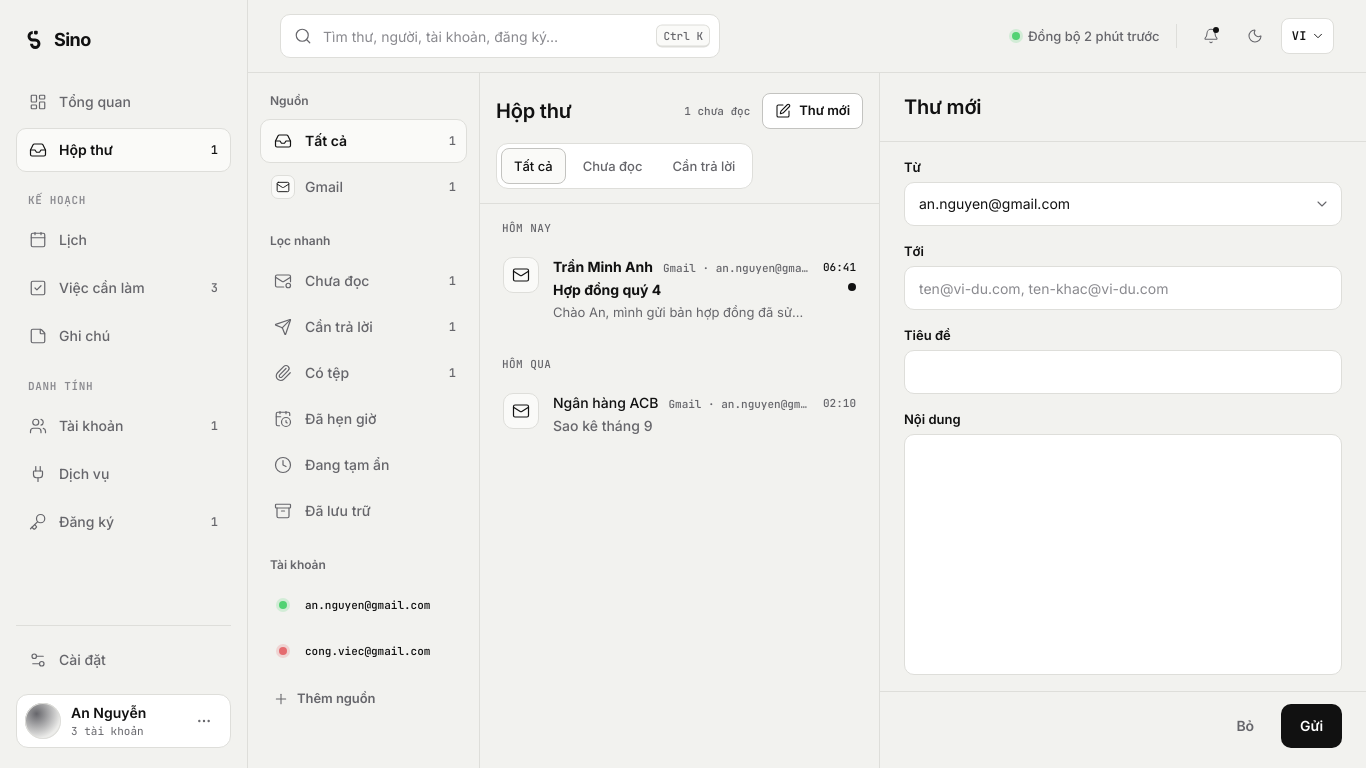
Test: sending a new mail on the API (FE-84, f10-new-mail) › shows the field errors of the server under their fields, and the mail stays editable
The width and height of the screenshot is (1366, 768).
Type "minhanh@acme.vn" into the field labelled "Tới".
click(1123, 288); type("minhanh@acme.vn")  # box [904,266,1342,310]
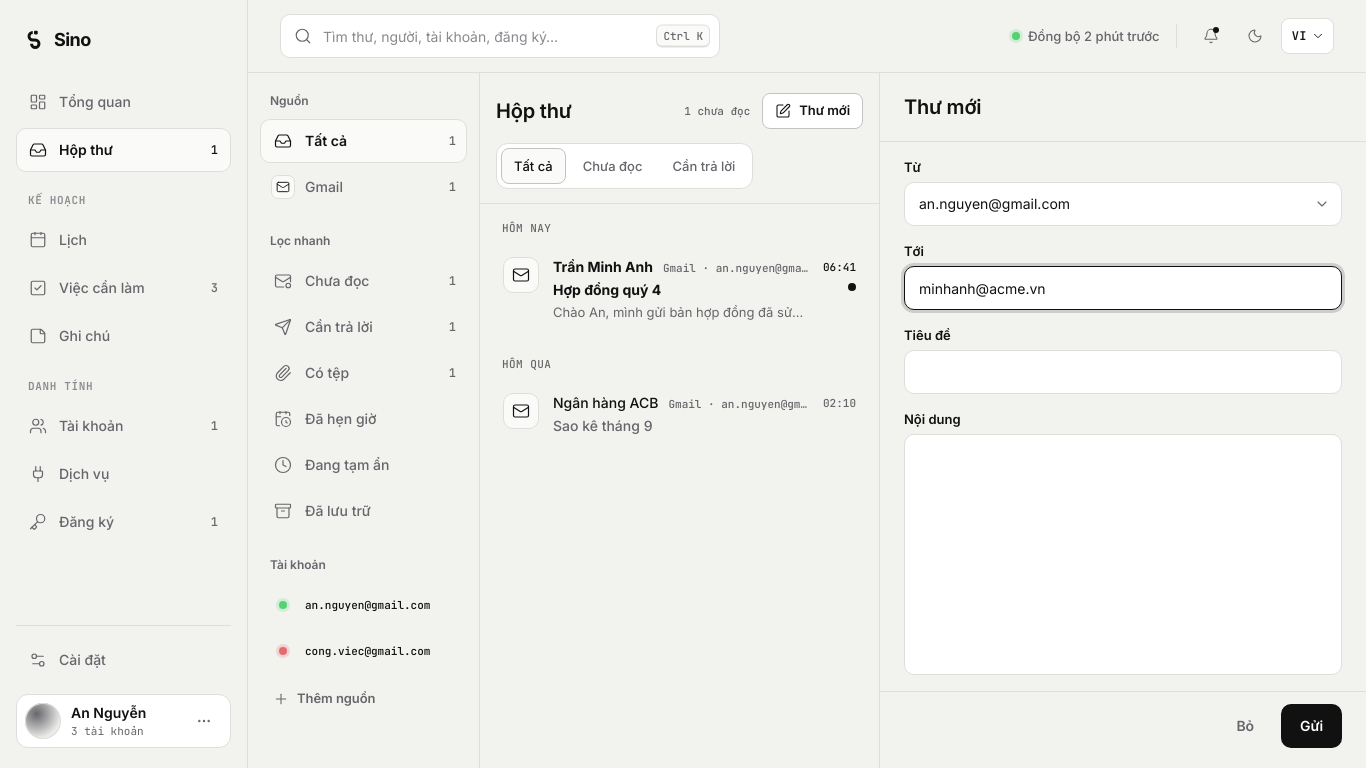
Type "Báo giá" into the field labelled "Tiêu đề".
click(1123, 372); type("Báo giá")  # box [904,350,1342,394]
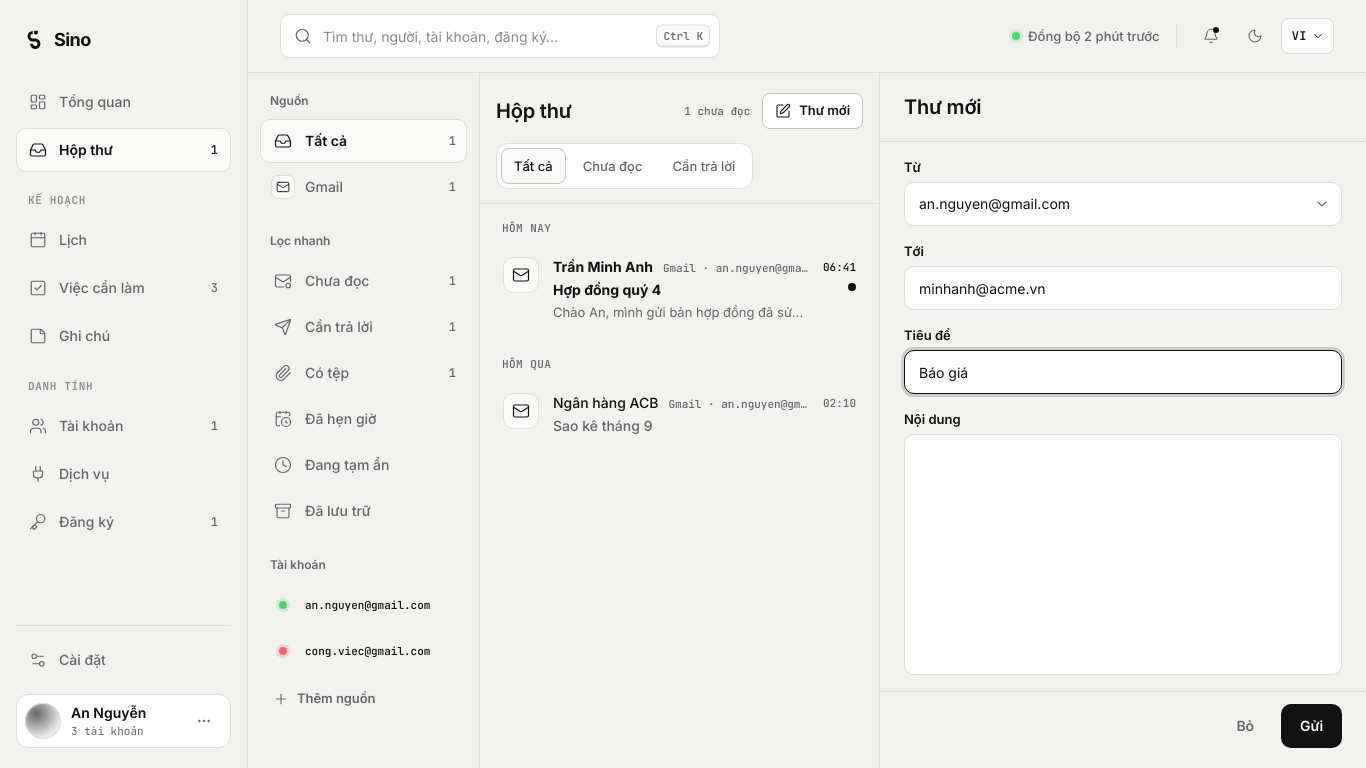
Type "Chào chị" into the text box labelled "Nội dung".
click(1123, 554); type("Chào chị")  # box [904,434,1342,675]
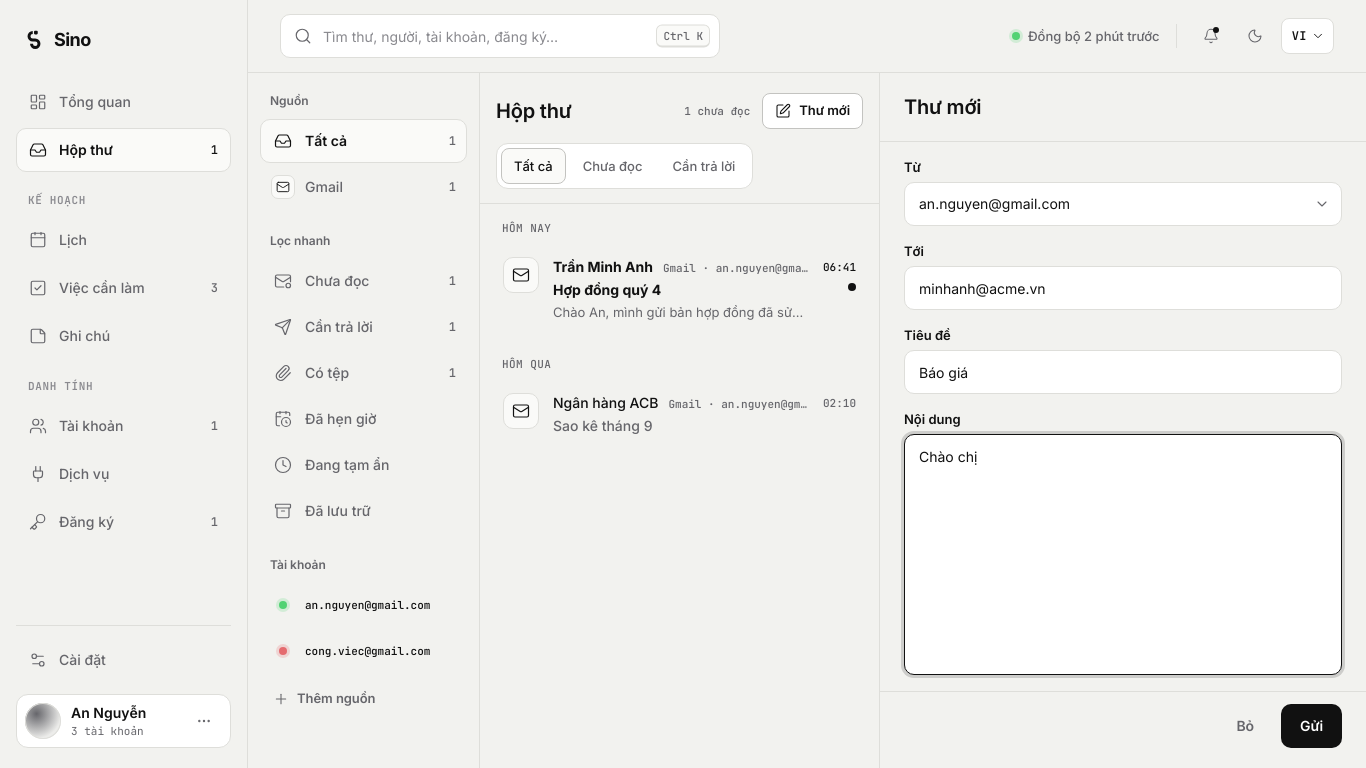
Click the button "Gửi".
click(1312, 726)  # box [1281,704,1342,748]
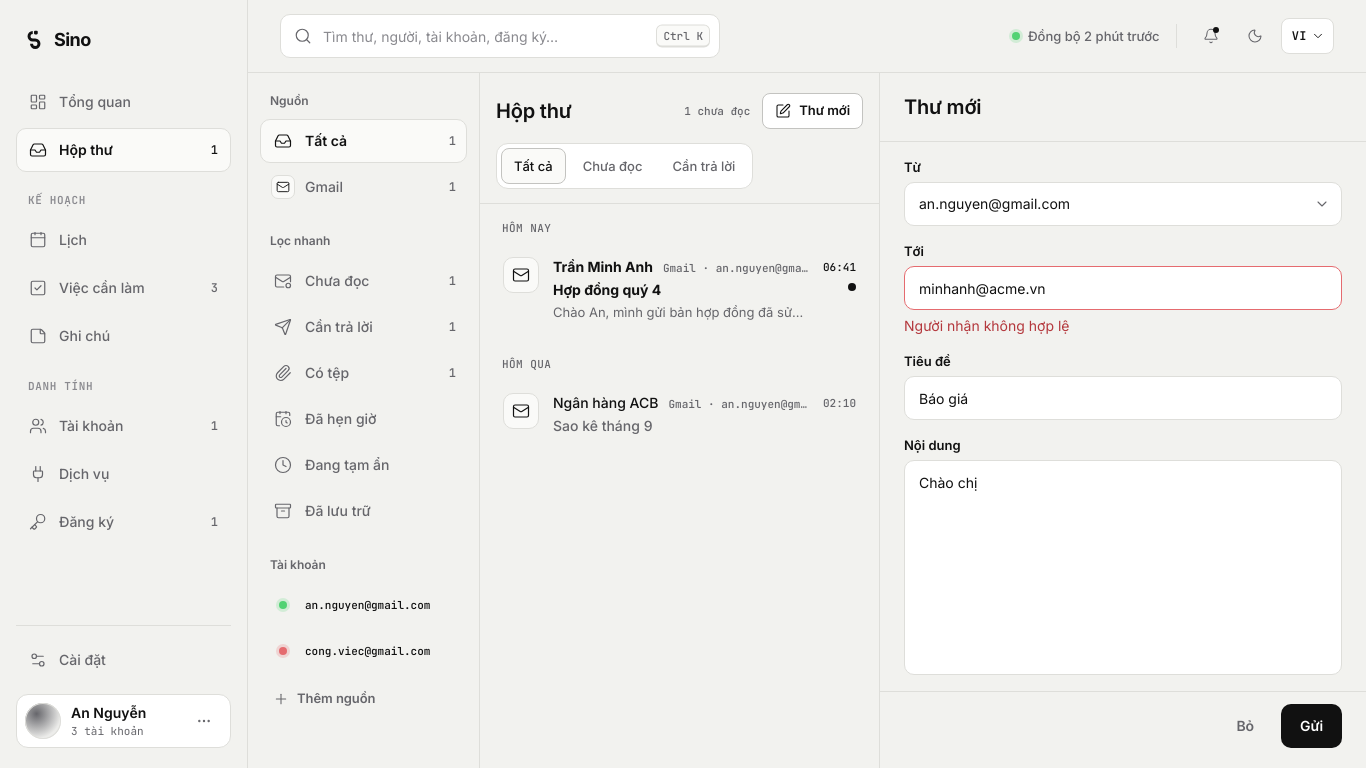
Check: the field labelled "Tới" is enabled, box [904,266,1342,310]
Check: the text "Người nhận không hợp lệ" is shown, box [904,317,1070,334]
